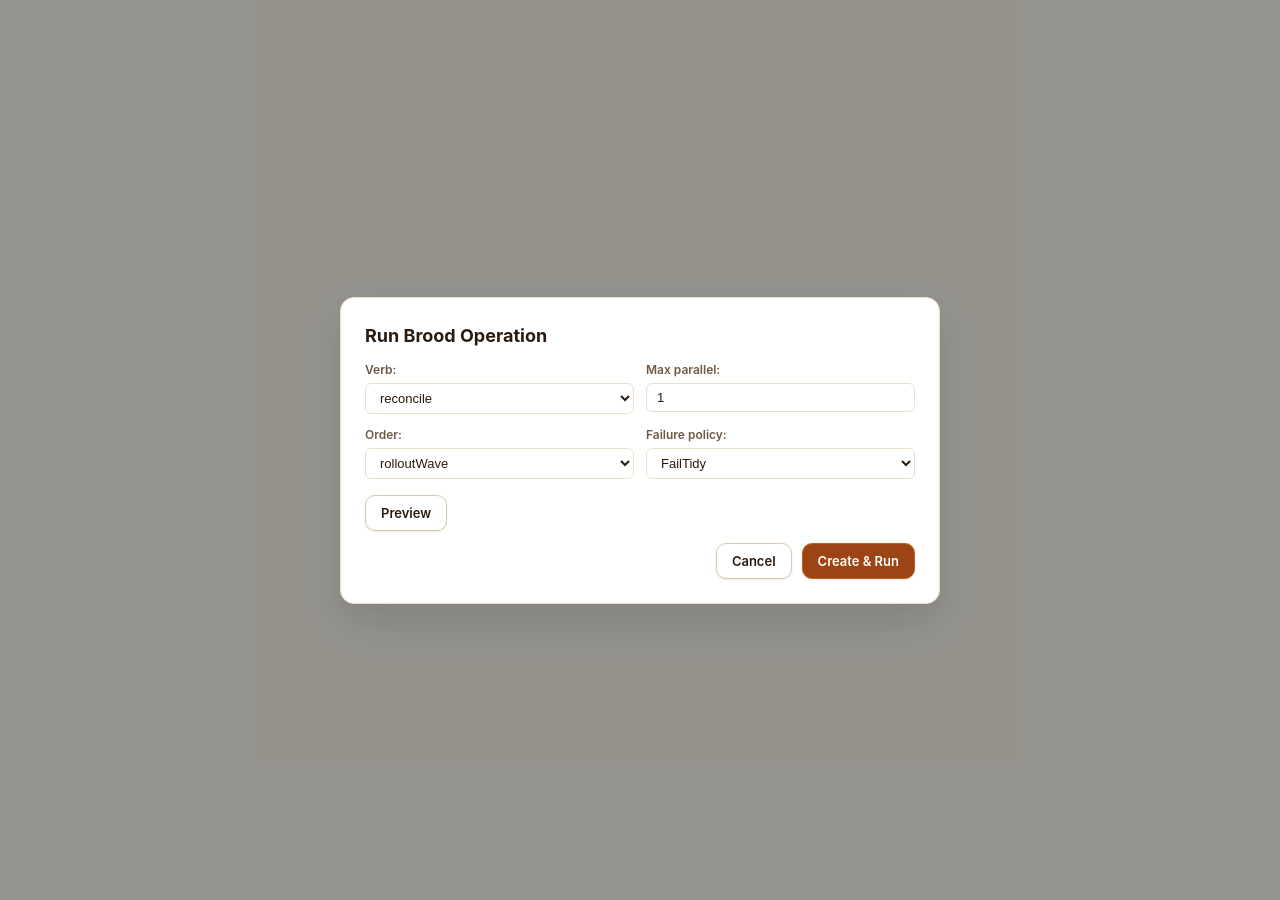
BroodOperationModal › previews with bare names and the shared namespace (tenant tenancy shape)
Click the button "Preview" at (406, 512), box [365, 494, 447, 530]
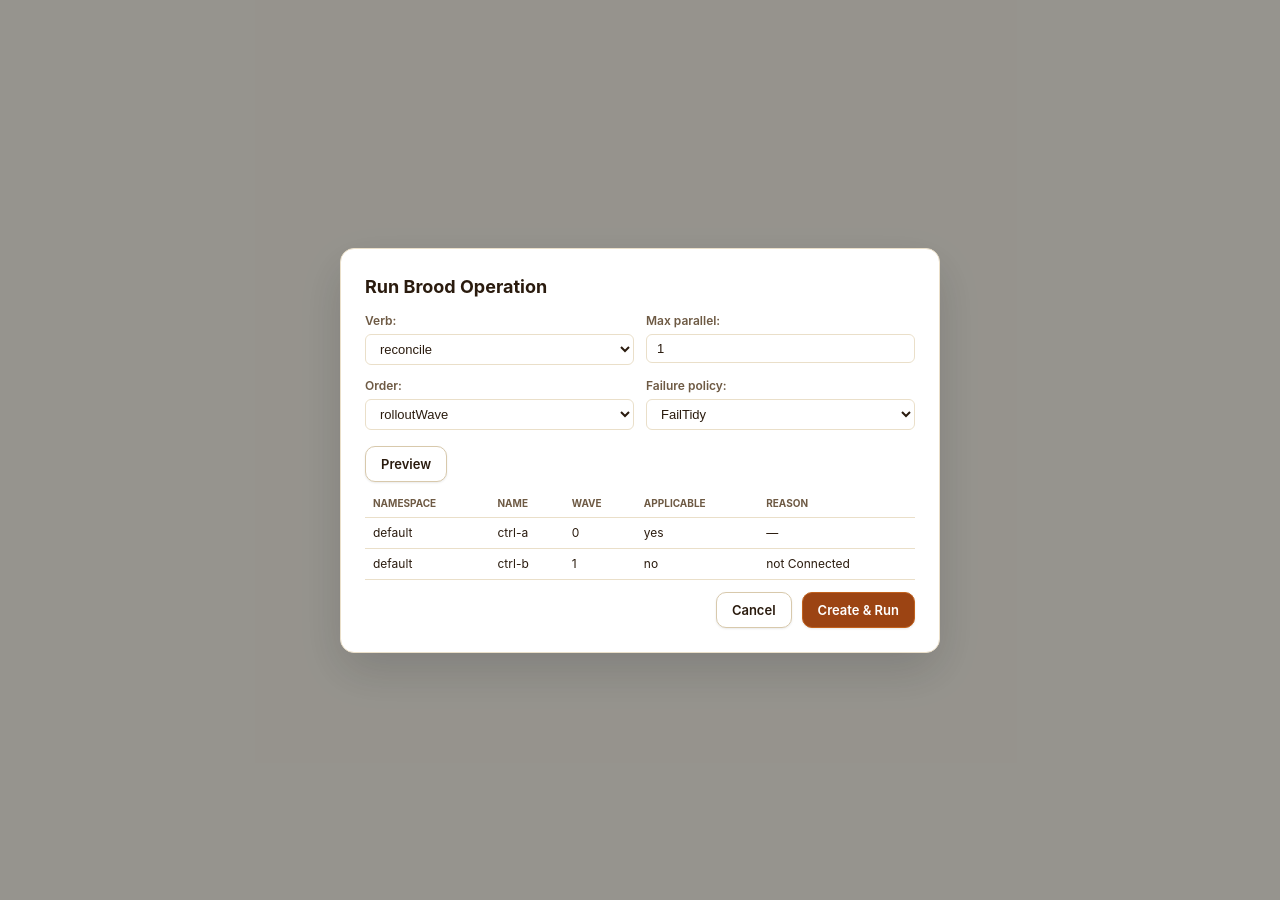
Expected: the cell "default" next to "ctrl-a" is shown, [373, 524, 412, 540]
Expected: the text "not Connected" is shown, [758, 548, 915, 579]
Expected: the text "yes" is shown, [636, 517, 758, 548]
